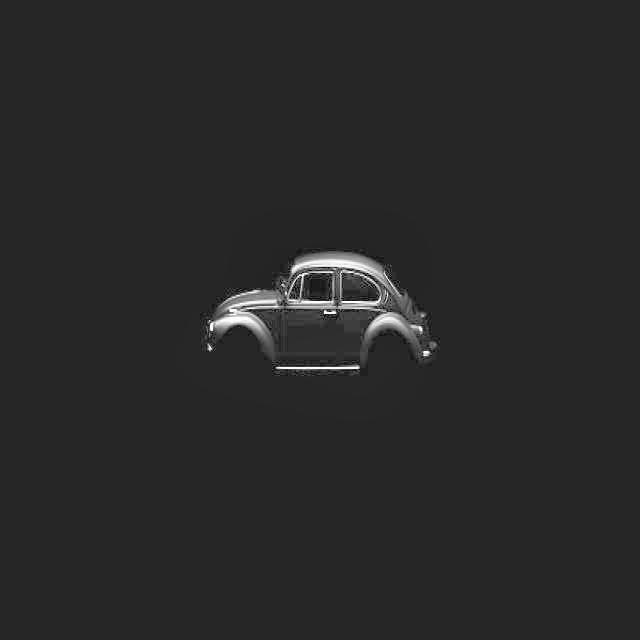carro: (204, 254, 438, 391)
